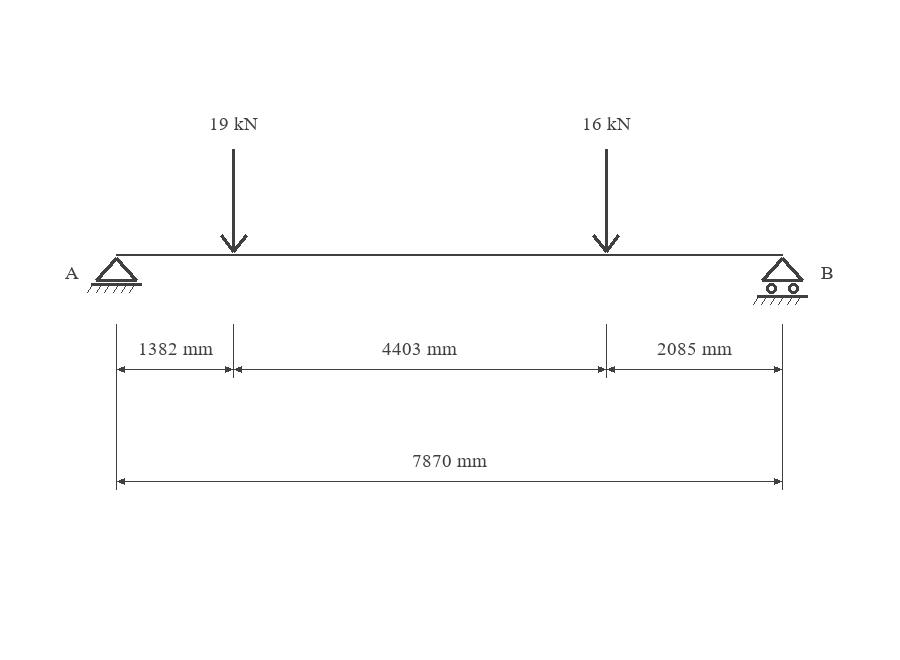pin_support: (87, 257, 142, 293)
point_load: (220, 149, 248, 253), (592, 149, 620, 253)
roller_support: (753, 257, 808, 305)
